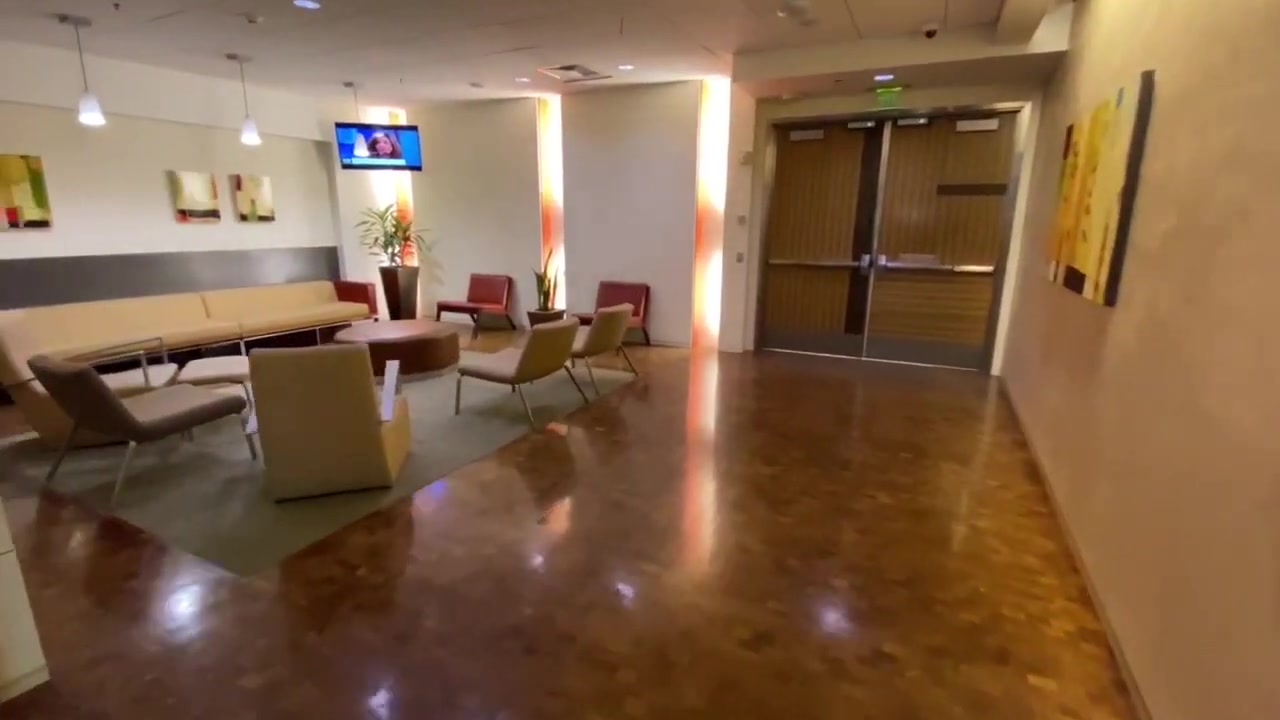TV: (332, 121, 424, 170)
push_latch: (765, 250, 873, 279), (875, 250, 995, 276)
sofa: (1, 279, 386, 448), (28, 353, 243, 501), (244, 344, 411, 504), (454, 313, 588, 429), (334, 318, 460, 387), (560, 302, 640, 395), (431, 270, 515, 340), (570, 277, 650, 345)
